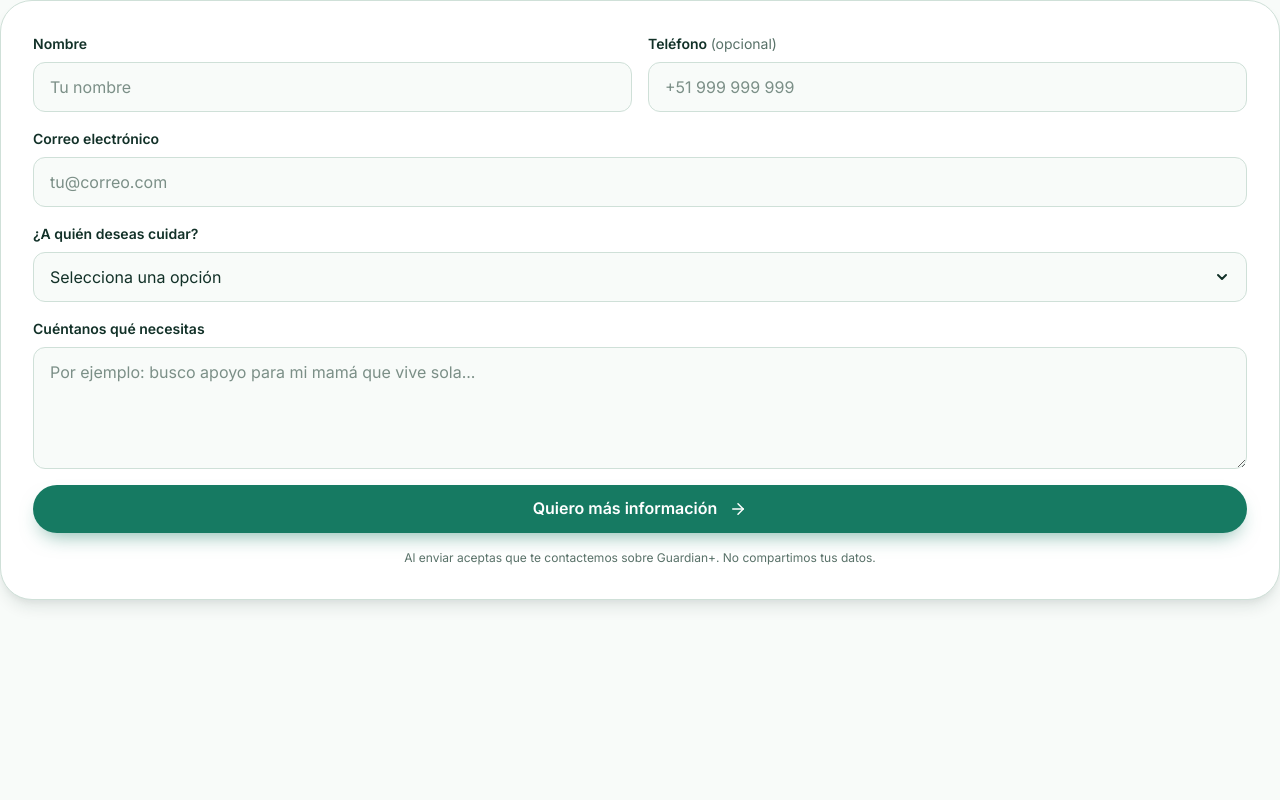
it: ContactForm › rejects an invalid email and keeps the data already entered
Step 1. Type "Lucía" into the field labelled "Nombre" → point(332, 87), box [33,62,632,112]
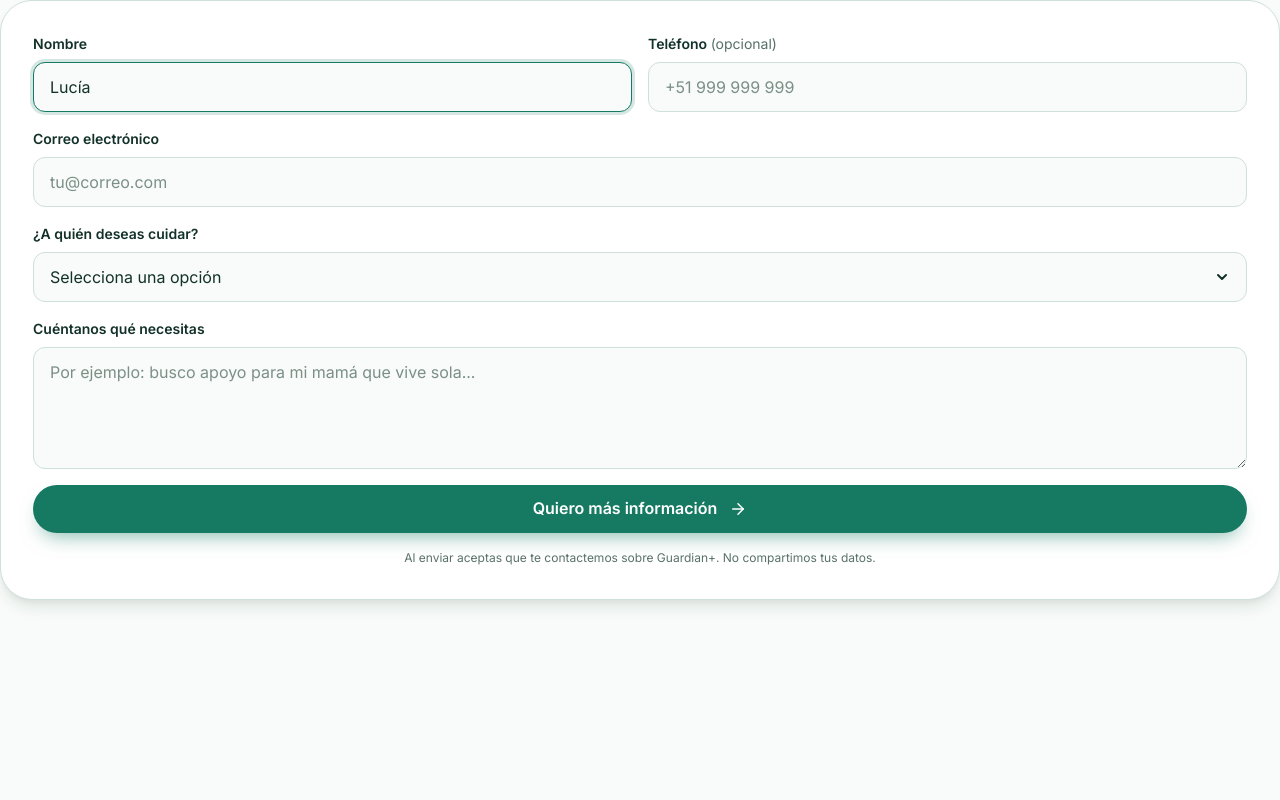
Step 2. Type "lucia@correo" into the field labelled "Correo electrónico" → point(640, 182), box [33,157,1247,207]
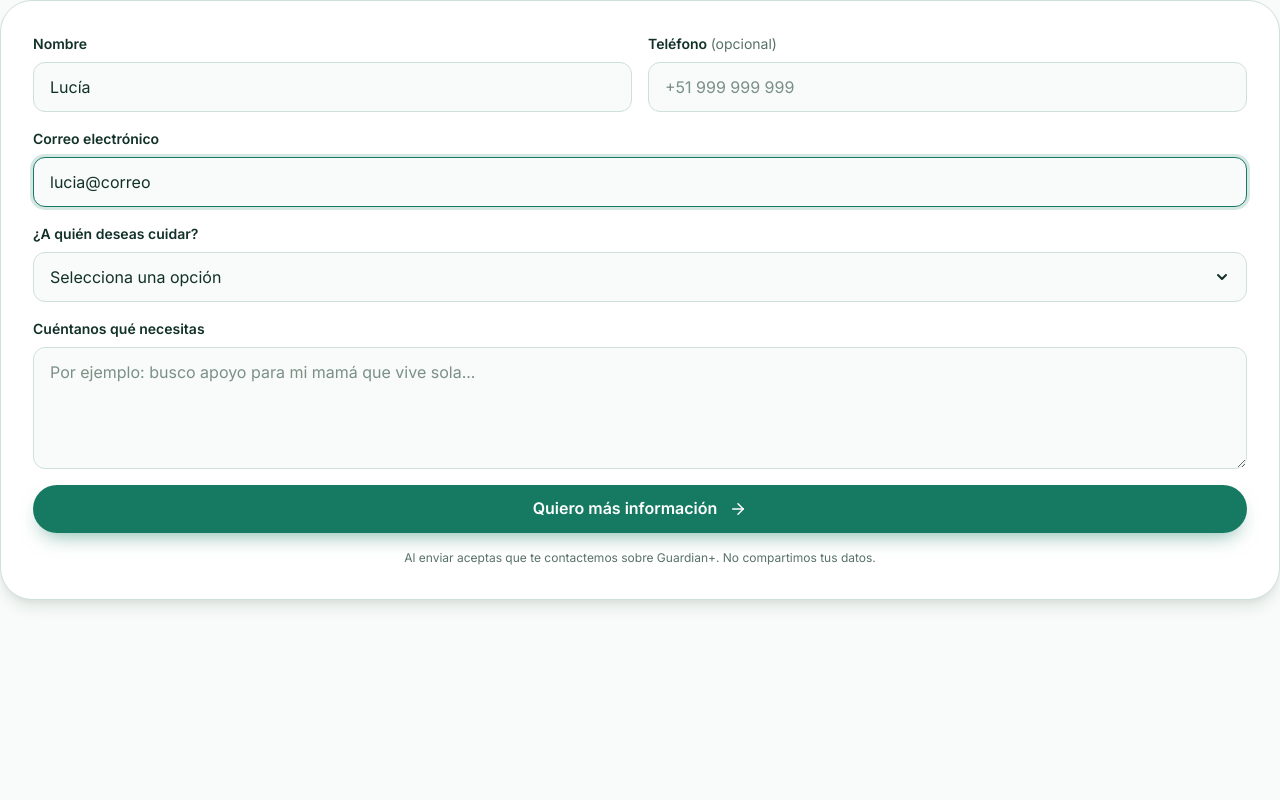
Step 3. Type "Busco apoyo para mi papá." into the text box labelled "Cuéntanos qué necesitas" → point(640, 408), box [33,347,1247,469]
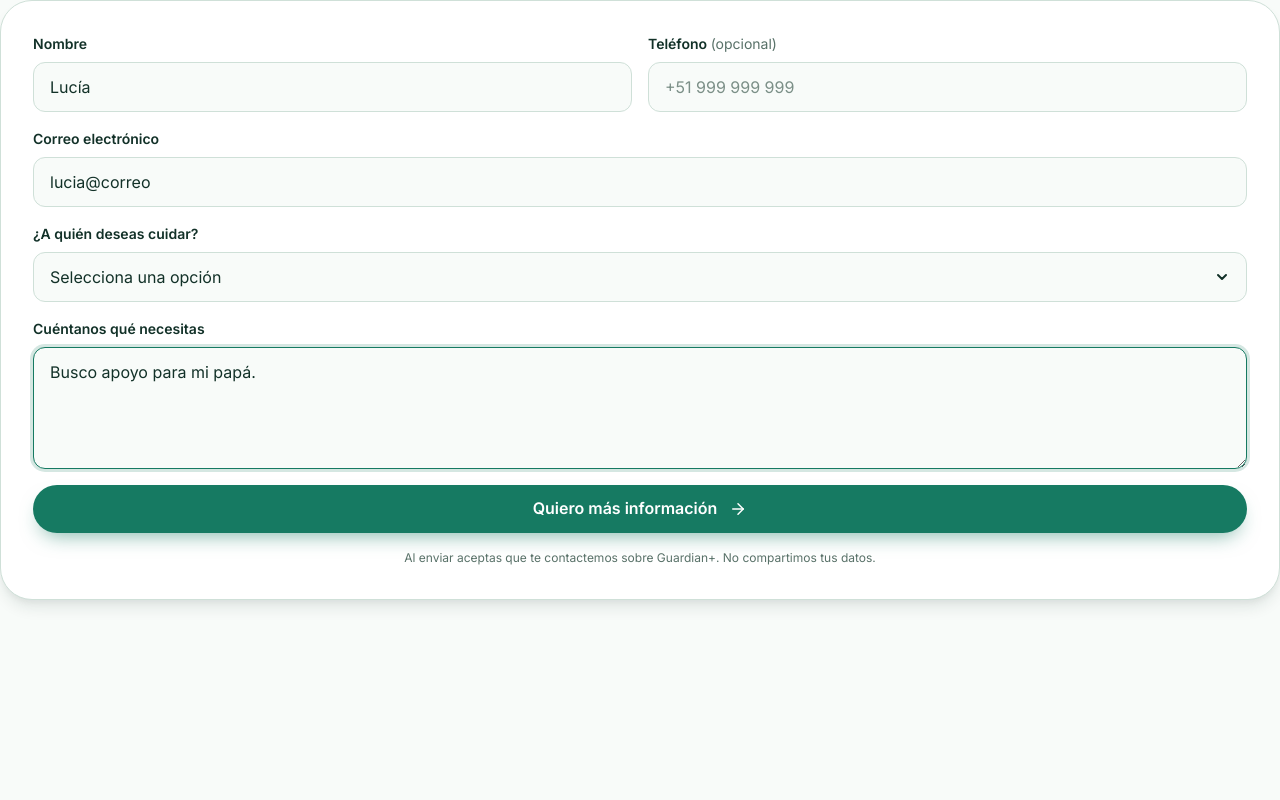
Step 4. Click the button "Quiero más información" → point(640, 509), box [33,485,1247,533]
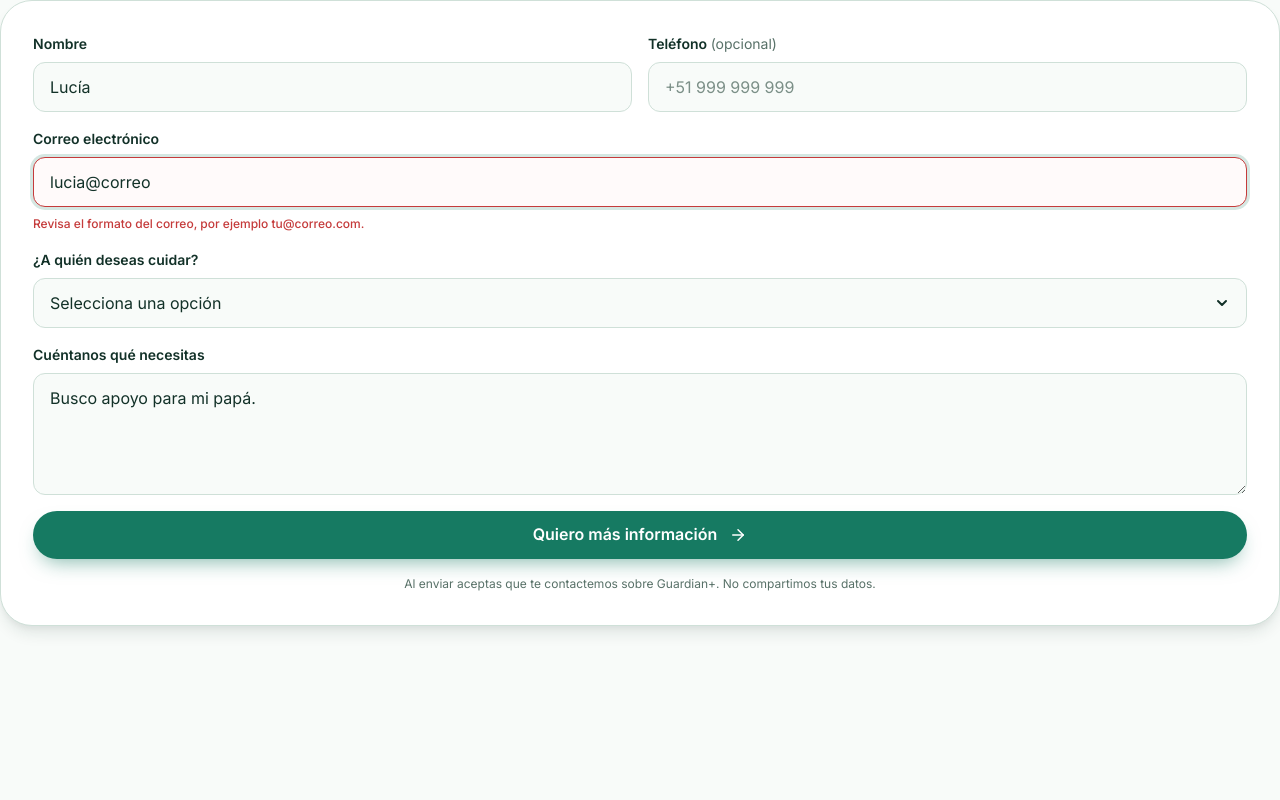
Expected: the text "Revisa el formato del correo, por ejemplo tu@correo.com." is shown, [33,216,364,231]
